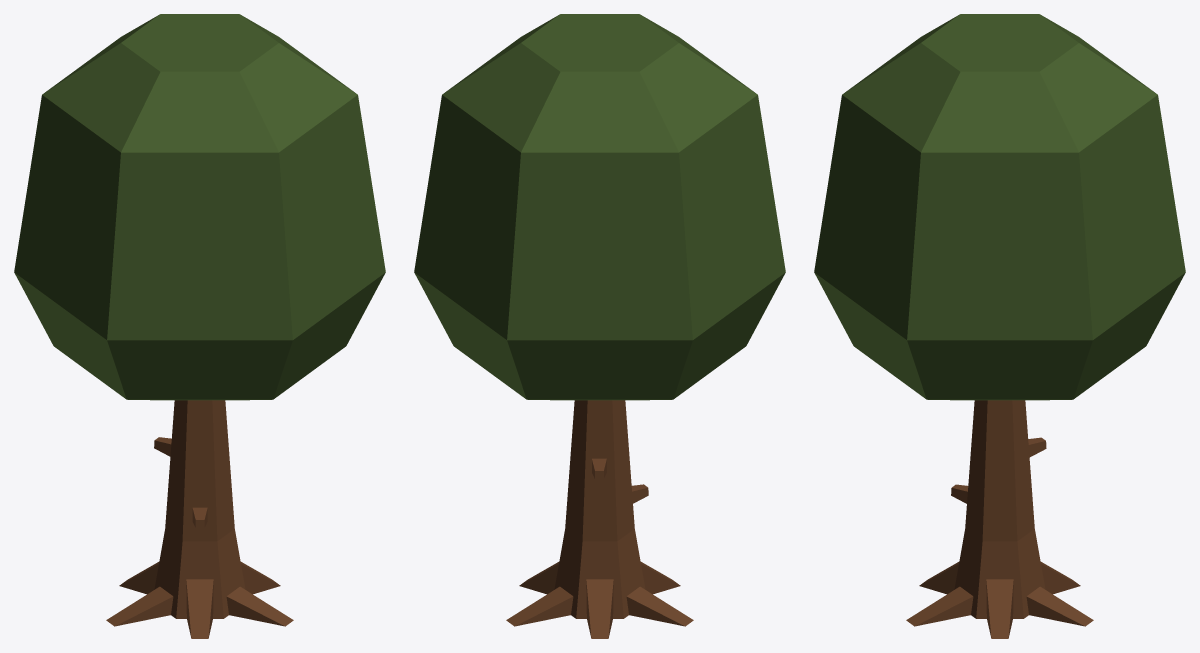
File: tree_oak.glb
3 renders of one model, left to right at view 1: azimuth 30°, elevation 25°; view 2: azimuth 150°, elevation 25°; view 3: azimuth 270°, elevation 25°, orthographic.
Parts seen in each view (by area): view 1: tree_oak; view 2: tree_oak; view 3: tree_oak.
Boxes of the visible parts, bbox=[...] form: tree_oak: bbox=[14, 14, 385, 638]; tree_oak: bbox=[414, 14, 785, 638]; tree_oak: bbox=[814, 14, 1185, 638].
Size of the model in its own units: 0.6406 by 1.23 by 0.7396.
